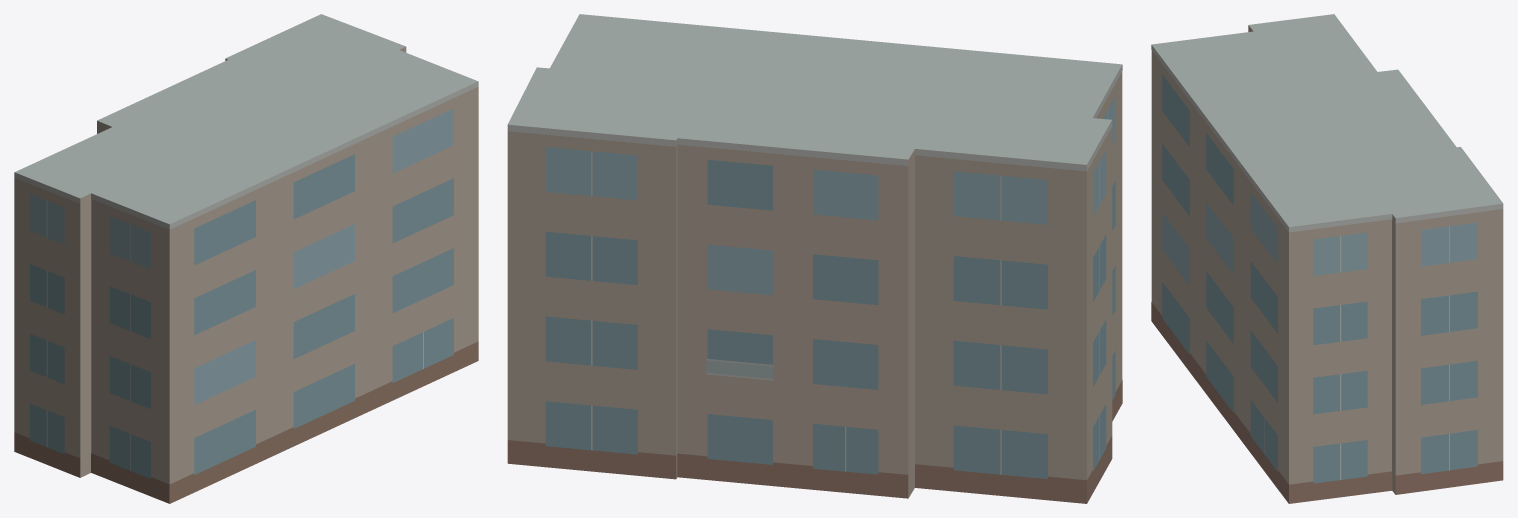
File: survey-upis-32616116.glb
3 views of the same model, side by side, from view 1: azimuth 30°, elevation 25°; view 2: azimuth 150°, elevation 25°; view 3: azimuth 270°, elevation 25° (orthographic). The views are drawn at different scales.
Visible parts, largest first — view 1: survey-upis-32616116.tmp; view 2: survey-upis-32616116.tmp; view 3: survey-upis-32616116.tmp.
Boxes of the visible parts, bbox=[...] form: survey-upis-32616116.tmp: bbox=[14, 14, 478, 503]; survey-upis-32616116.tmp: bbox=[507, 14, 1122, 503]; survey-upis-32616116.tmp: bbox=[1151, 14, 1503, 503].
Size of the model in its own units: 21.16 by 12.8 by 14.76.
